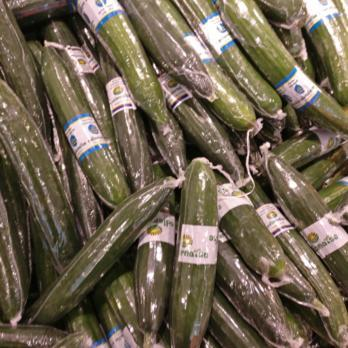Cucumber: (1, 0, 348, 348)
